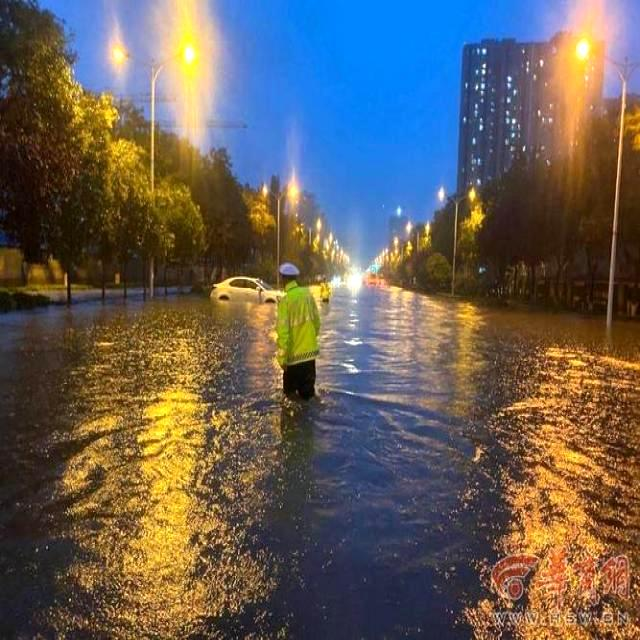rescuer: (262, 255, 339, 414)
